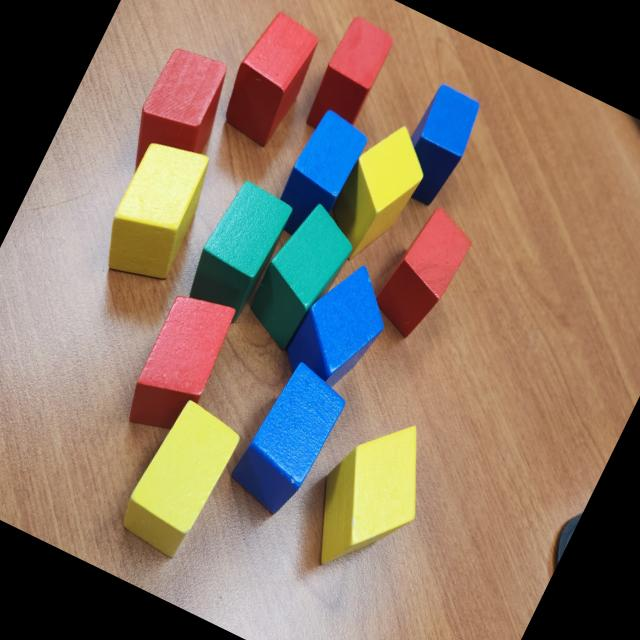blue: (221, 354, 353, 522), (274, 249, 405, 404), (264, 106, 374, 249), (384, 80, 488, 212)
green: (235, 196, 362, 358), (178, 175, 294, 326)
red: (116, 281, 242, 446), (114, 39, 242, 195), (211, 5, 330, 154), (362, 198, 480, 347), (299, 13, 398, 144)
yellow: (291, 400, 450, 591), (112, 394, 245, 564), (90, 130, 224, 294), (318, 112, 439, 266)
